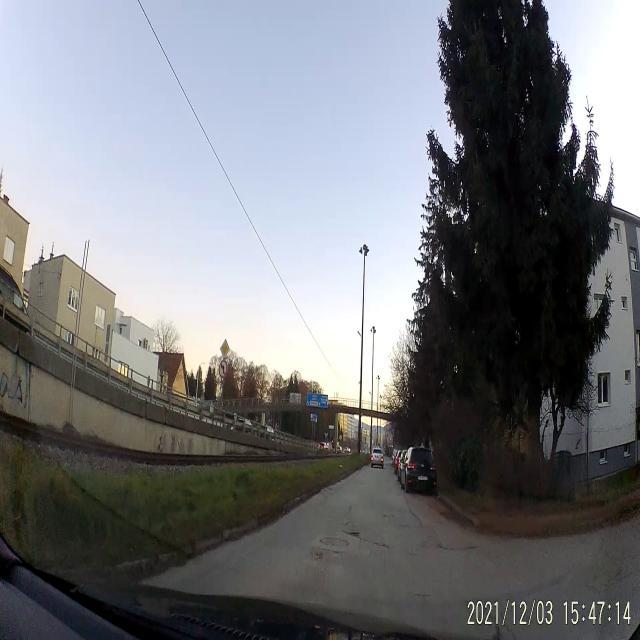Manhole: (320, 534, 350, 550)
Pothole: (345, 527, 365, 539)
